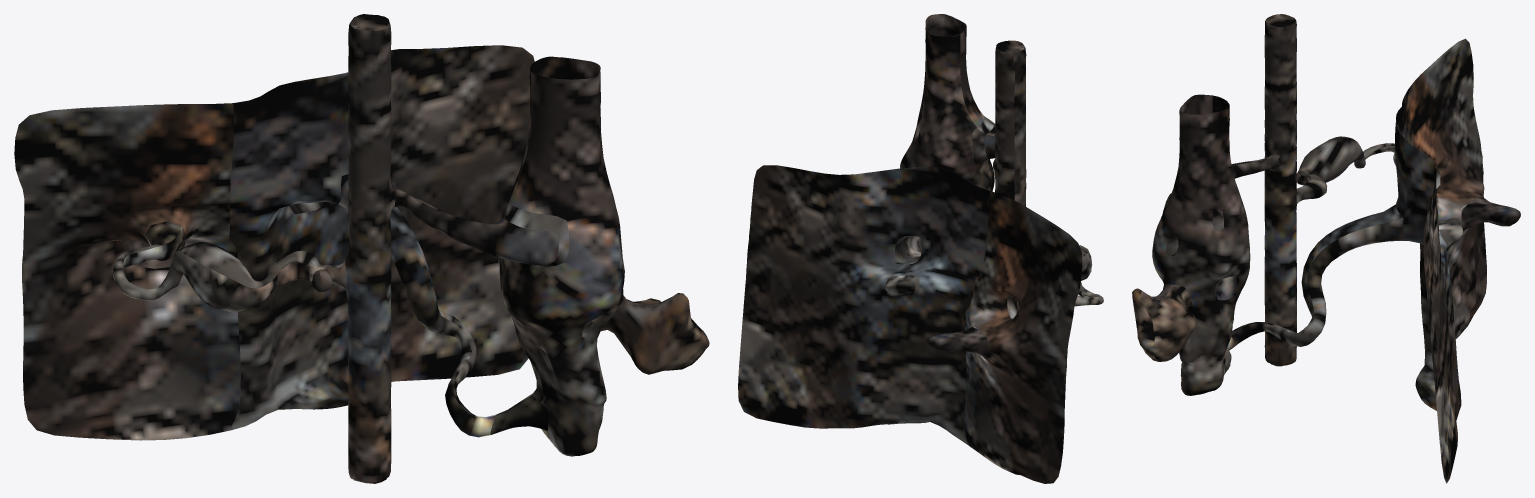
The model's file is Chapter1 1.fbx.
3 views of the same model, side by side, from view 1: azimuth 30°, elevation 25°; view 2: azimuth 150°, elevation 25°; view 3: azimuth 270°, elevation 25° (orthographic). The views are drawn at different scales.
Visible parts, largest first — view 1: CaveBase.008, CaveBase.007, CaveBase.002, CaveBase.009, FlippedCaveBases.016, FlippedCaveBases.015, FlippedCaveBases.012, FlippedCaveBases.019, CaveBase.003, FlippedCaveBases.017, CaveBase.005, CaveBase.001 (+6 smaller); view 2: CaveBase.008, CaveBase.007, FlippedCaveBases.016, CaveBase.002, FlippedCaveBases.015, CaveBase.009, FlippedCaveBases.012, FlippedCaveBases.019, FlippedCaveBases.017, CaveBase.003, CaveBase.006; view 3: CaveBase.002, CaveBase.007, CaveBase.008, CaveBase.009, CaveBase.003, FlippedCaveBases.012, FlippedCaveBases.015, CaveBase.005, FlippedCaveBases.016, FlippedCaveBases.019, CaveBase.001, FlippedCaveBases.013 (+4 smaller).
Boxes of the visible parts, x1,y1,x2,y2 form: CaveBase.008: [229, 45, 534, 430]; CaveBase.007: [14, 103, 240, 440]; CaveBase.002: [490, 56, 624, 456]; CaveBase.009: [345, 14, 406, 483]; FlippedCaveBases.016: [229, 46, 532, 427]; FlippedCaveBases.015: [15, 103, 240, 440]; FlippedCaveBases.012: [491, 57, 624, 456]; FlippedCaveBases.019: [345, 15, 404, 482]; CaveBase.003: [338, 174, 496, 437]; FlippedCaveBases.017: [404, 193, 569, 266]; CaveBase.005: [600, 293, 709, 374]; CaveBase.001: [162, 242, 277, 311]; CaveBase.008: [738, 165, 990, 444]; CaveBase.007: [927, 191, 1082, 483]; FlippedCaveBases.016: [738, 165, 989, 444]; CaveBase.002: [900, 14, 994, 191]; FlippedCaveBases.015: [927, 192, 1082, 482]; CaveBase.009: [993, 40, 1026, 206]; FlippedCaveBases.012: [902, 14, 994, 190]; FlippedCaveBases.019: [993, 41, 1025, 204]; FlippedCaveBases.017: [971, 116, 995, 164]; CaveBase.003: [895, 235, 921, 264]; CaveBase.006: [1007, 289, 1103, 318]; CaveBase.002: [1152, 94, 1250, 395]; CaveBase.007: [1404, 38, 1520, 339]; CaveBase.008: [1395, 98, 1462, 483]; CaveBase.009: [1264, 14, 1296, 366]; CaveBase.003: [1227, 204, 1408, 350]; FlippedCaveBases.012: [1152, 94, 1250, 394]; FlippedCaveBases.015: [1404, 40, 1520, 337]; CaveBase.005: [1132, 284, 1197, 361]; FlippedCaveBases.016: [1395, 97, 1461, 482]; FlippedCaveBases.019: [1264, 14, 1296, 365]; CaveBase.001: [1296, 136, 1365, 185]; FlippedCaveBases.013: [1228, 207, 1404, 349].
Bounding box in the file's own units: 604 × 572 × 544.
